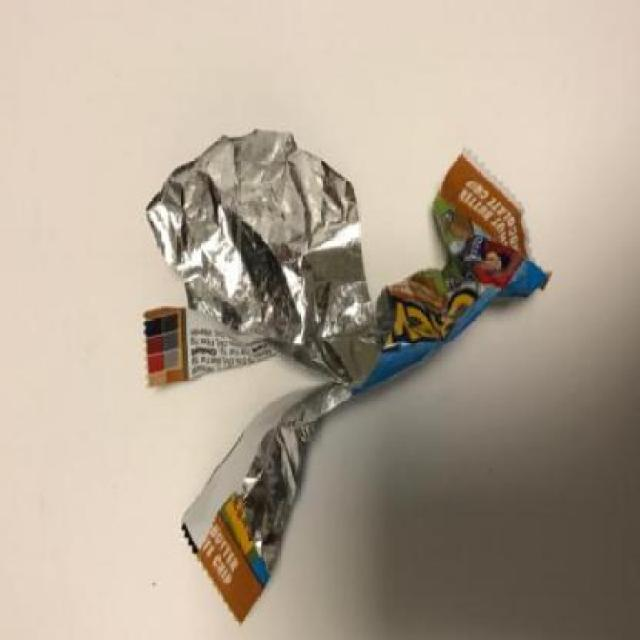nhua: (142, 129, 552, 626)
